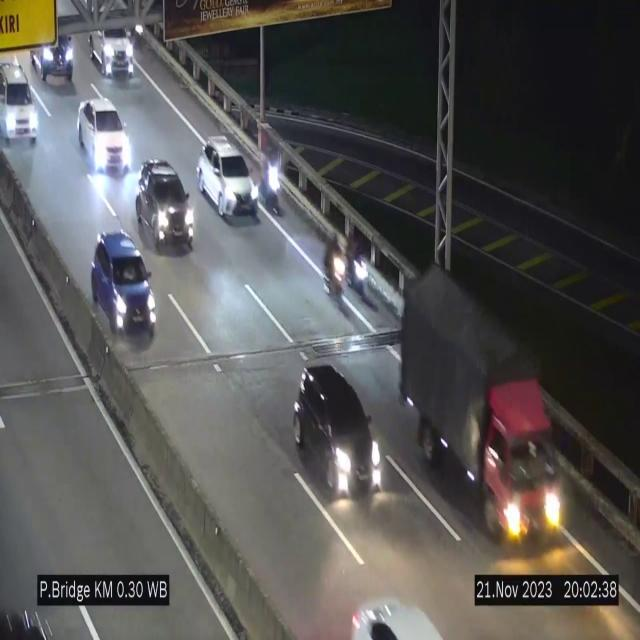Car: (294, 360, 382, 501), (91, 232, 155, 337), (135, 156, 197, 260), (197, 137, 259, 218), (0, 62, 47, 147), (78, 99, 130, 174)
Motorcycle: (324, 230, 348, 310), (349, 232, 375, 304), (264, 154, 282, 218)
Truck: (399, 271, 561, 553)
